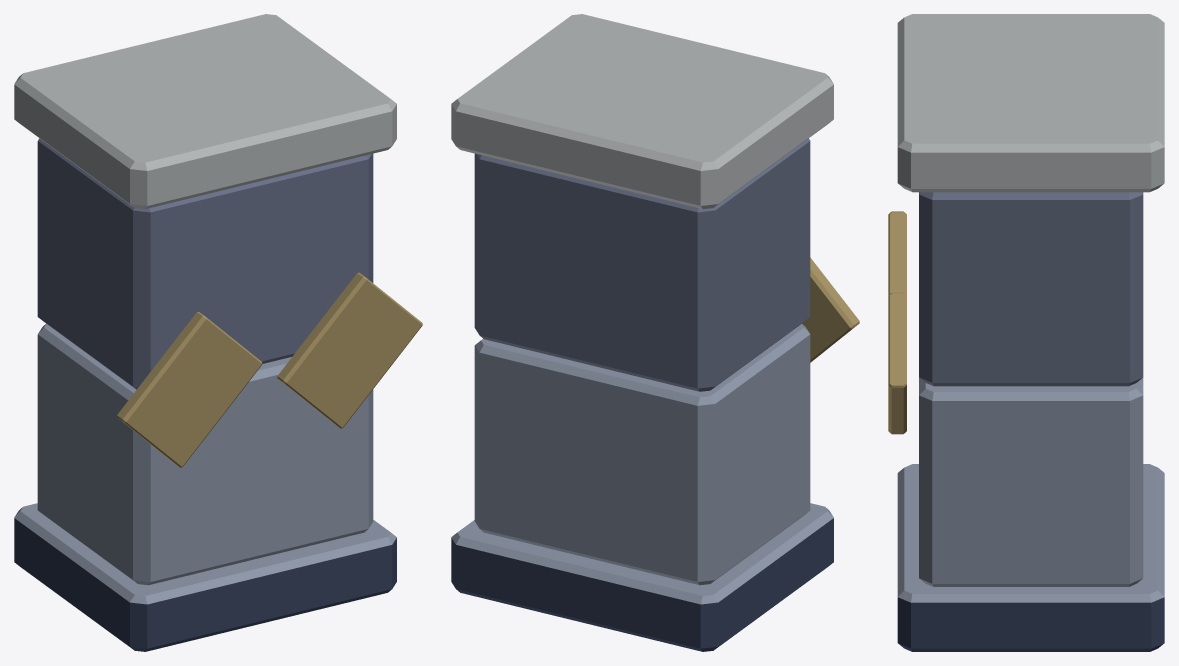
The model's file is wall-end.glb.
The picture shows the model from 3 angles, left to right: view 1: azimuth 30°, elevation 25°; view 2: azimuth 150°, elevation 25°; view 3: azimuth 270°, elevation 25°; orthographic projection. The views are drawn at different scales.
Parts seen in each view (by area): view 1: wall-end__body; view 2: wall-end__body; view 3: wall-end__body.
Part boxes in pixels (<box>): wall-end__body: <box>14,14,422,651</box>; wall-end__body: <box>451,14,859,651</box>; wall-end__body: <box>888,14,1164,651</box>.
Bounding box in the file's own units: 0.6737 × 1.05 × 0.5175.
